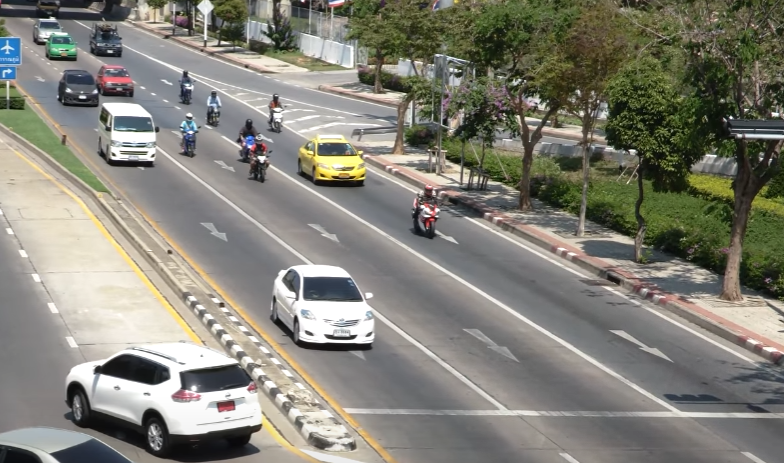Bus: (97, 102, 156, 166)
Car: (63, 342, 261, 453), (268, 262, 378, 349), (296, 134, 366, 185), (59, 69, 99, 106), (89, 21, 123, 56), (99, 63, 135, 95), (46, 32, 78, 59), (32, 18, 63, 45), (35, 1, 59, 17)
Motorcycle: (409, 184, 441, 237), (248, 134, 272, 182), (179, 112, 200, 156), (238, 119, 260, 160), (268, 92, 285, 132), (205, 90, 223, 126), (179, 69, 195, 105)
